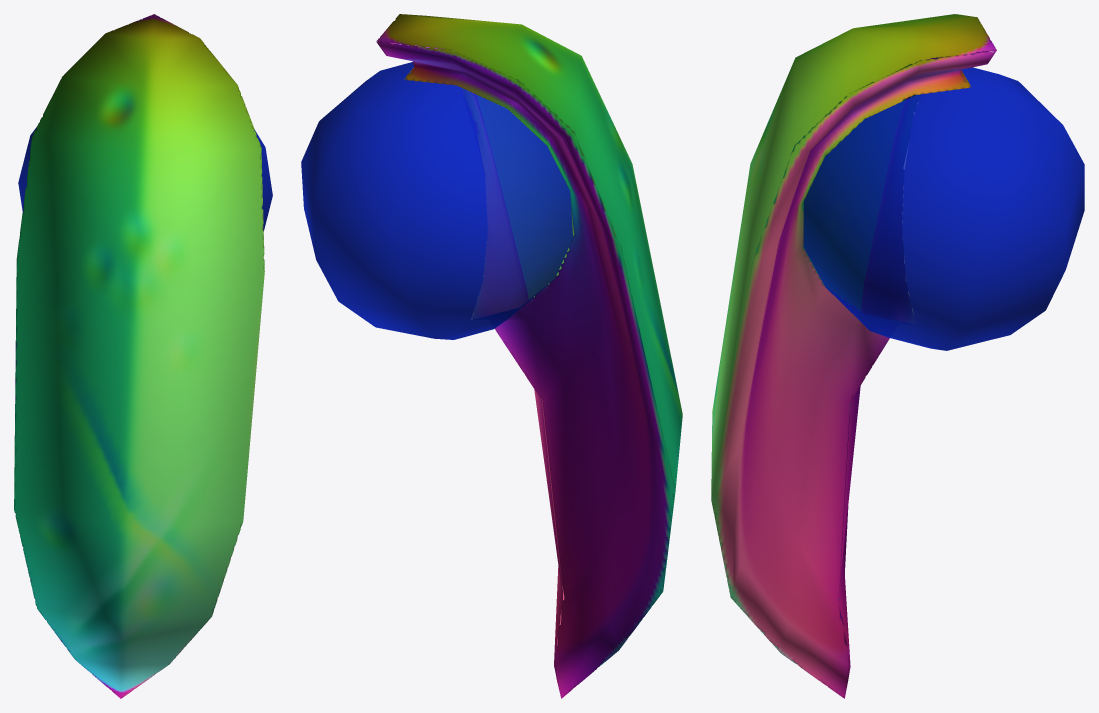
The model's file is ElipPata4.obj.
3 views of the same model, side by side, from view 1: azimuth 30°, elevation 25°; view 2: azimuth 150°, elevation 25°; view 3: azimuth 270°, elevation 25° (orthographic). The views are drawn at different scales.
Parts seen in each view (by area): view 1: Sphere.005_Sphere.002; view 2: Sphere.005_Sphere.002; view 3: Sphere.005_Sphere.002.
Part boxes in pixels (box(x1,y1,x2,y2)): Sphere.005_Sphere.002: box(14, 14, 272, 698); Sphere.005_Sphere.002: box(301, 14, 682, 698); Sphere.005_Sphere.002: box(711, 14, 1084, 698).
Bounding box in the file's own units: 2.14 × 4.53 × 2.16.
